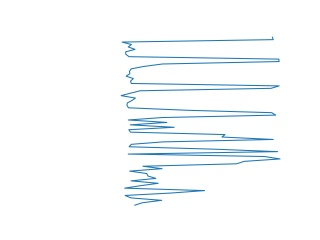crevasseRiverChannelBar: (118, 159, 271, 206)
majorRiverBedLagDeposit: (122, 120, 285, 163)
majorRiverChannelBar: (116, 35, 283, 117)
